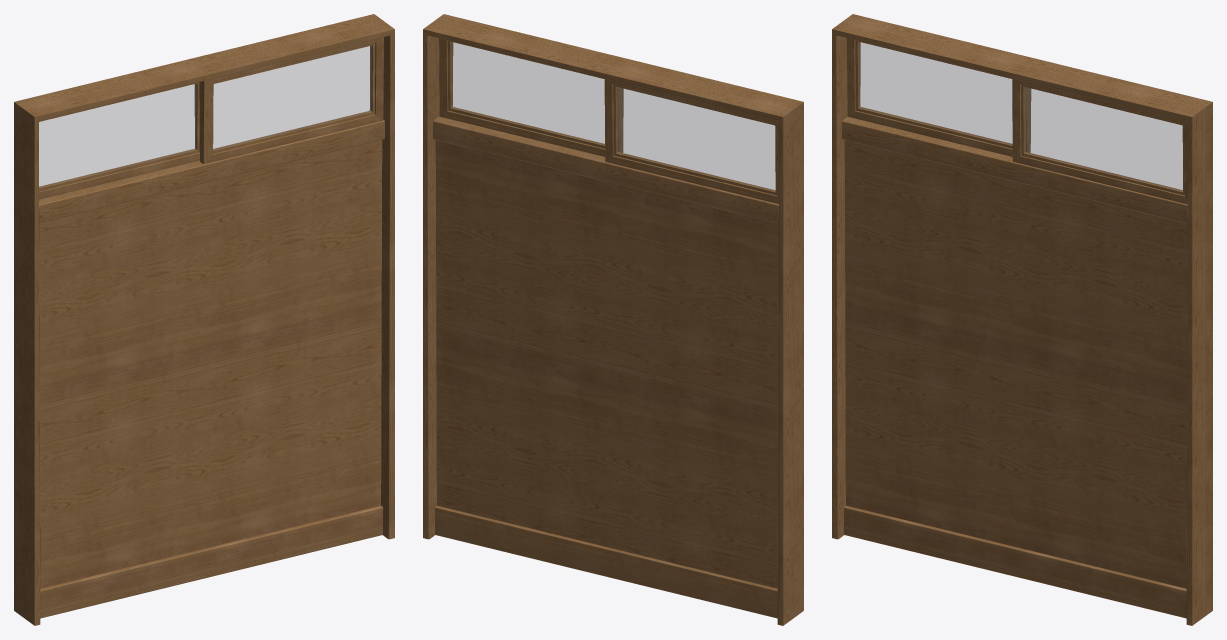
The model's file is M_Partition02.FBX.
3 views of the same model, side by side, from view 1: azimuth 30°, elevation 25°; view 2: azimuth 150°, elevation 25°; view 3: azimuth 330°, elevation 25° (orthographic).
Visible parts, largest first — view 1: Partition_03; view 2: Partition_03; view 3: Partition_03.
Part boxes in pixels (bbox=[...]): Partition_03: bbox=[14, 14, 394, 625]; Partition_03: bbox=[423, 14, 803, 625]; Partition_03: bbox=[832, 14, 1212, 625].
Bounding box in the file's own units: 200 × 270 × 20.
